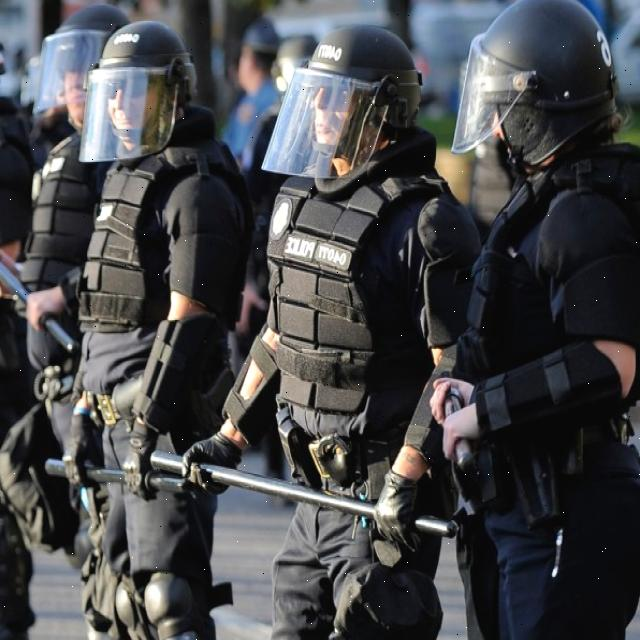police: (196, 17, 453, 640), (64, 0, 255, 640), (459, 0, 640, 640)
